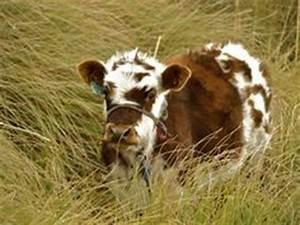cow: (76, 39, 273, 193)
